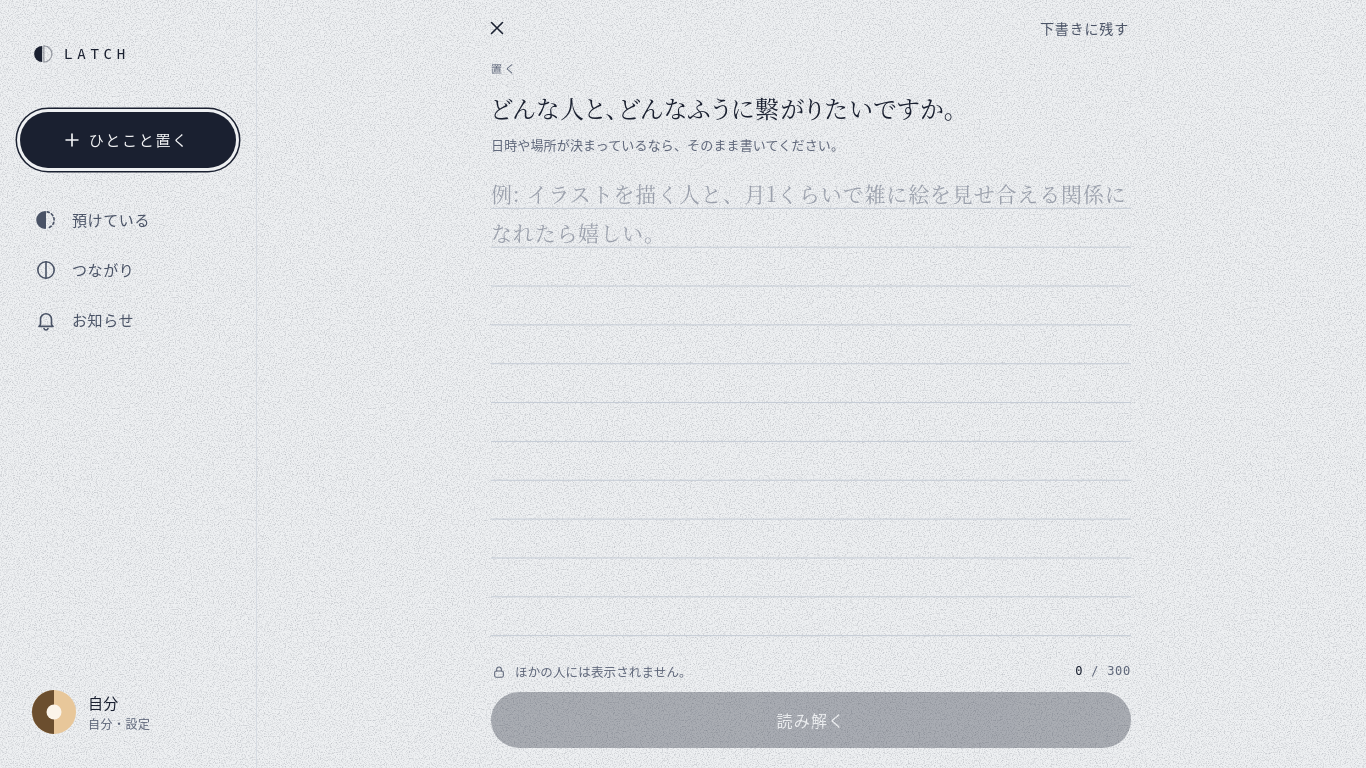
Test: Compose › 下書きの保存に失敗したらエラーを表示して画面に留まる
The width and height of the screenshot is (1366, 768).
Type "イラストを描く人と、月1くらいで雑に絵を見せ合える関係になれたら嬉しい。初心者です。" into the text box named "繋がりたいこと(300字まで)".
click(811, 411); type("イラストを描く人と、月1くらいで雑に絵を見せ合える関係になれたら嬉しい。初心者です。")  # box left=491, top=174, right=1131, bottom=649
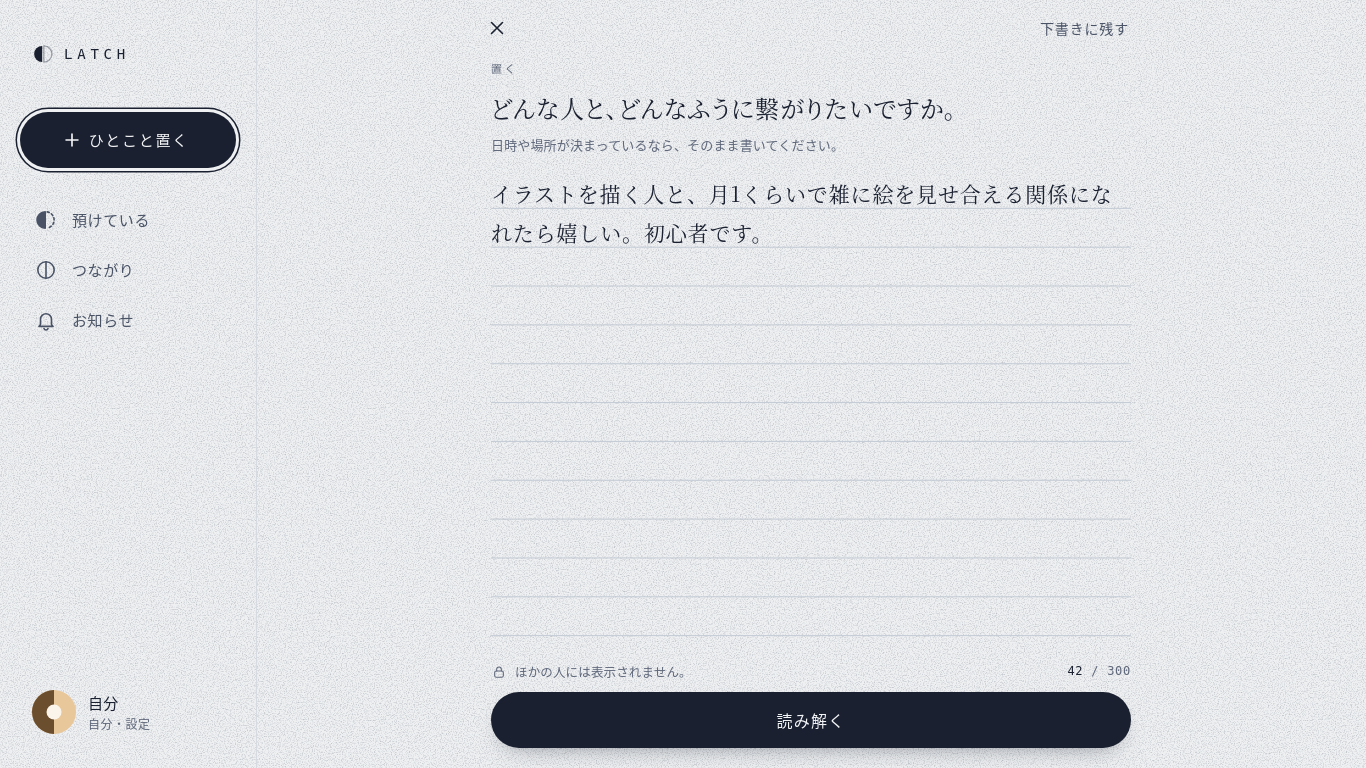
Click the button "下書きに残す".
click(1084, 28)  # box left=1022, top=6, right=1147, bottom=50
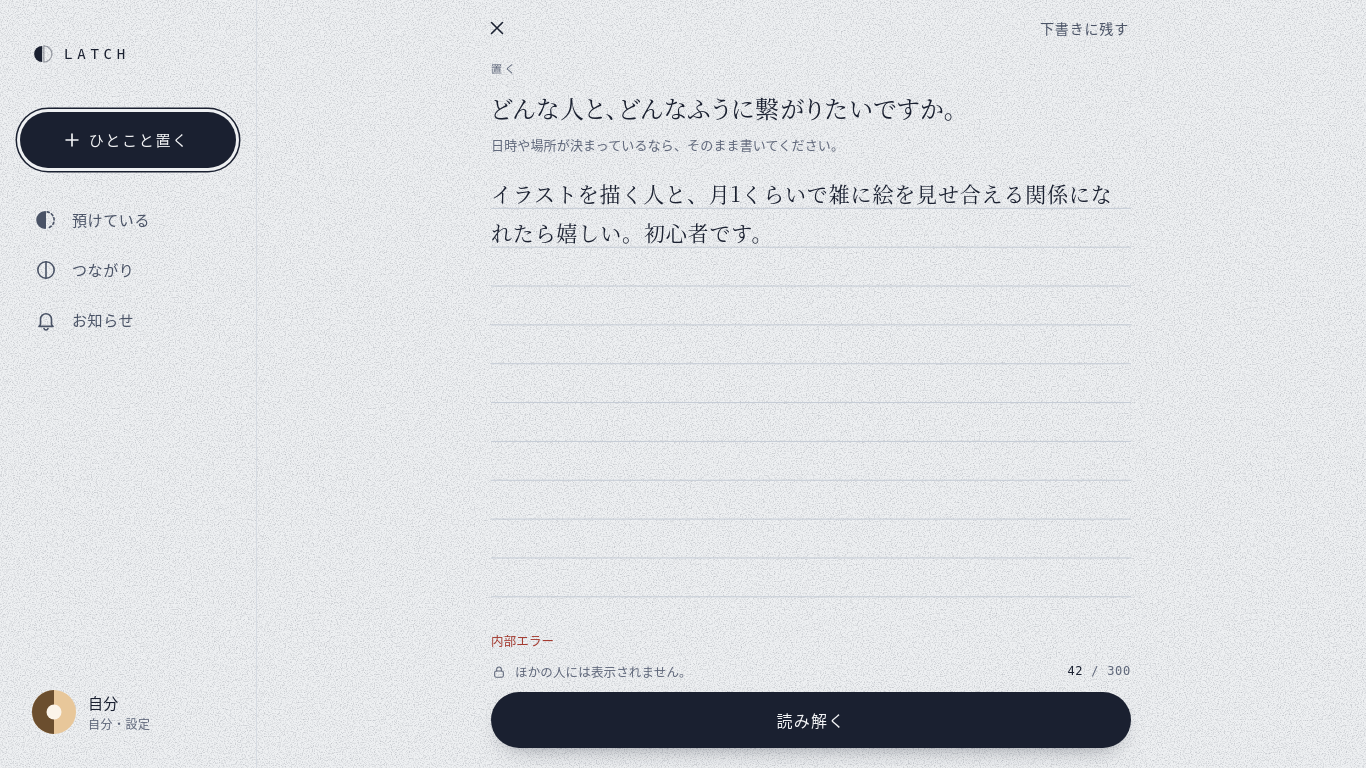
Now the message "内部エラー" is shown, box left=491, top=631, right=554, bottom=650
